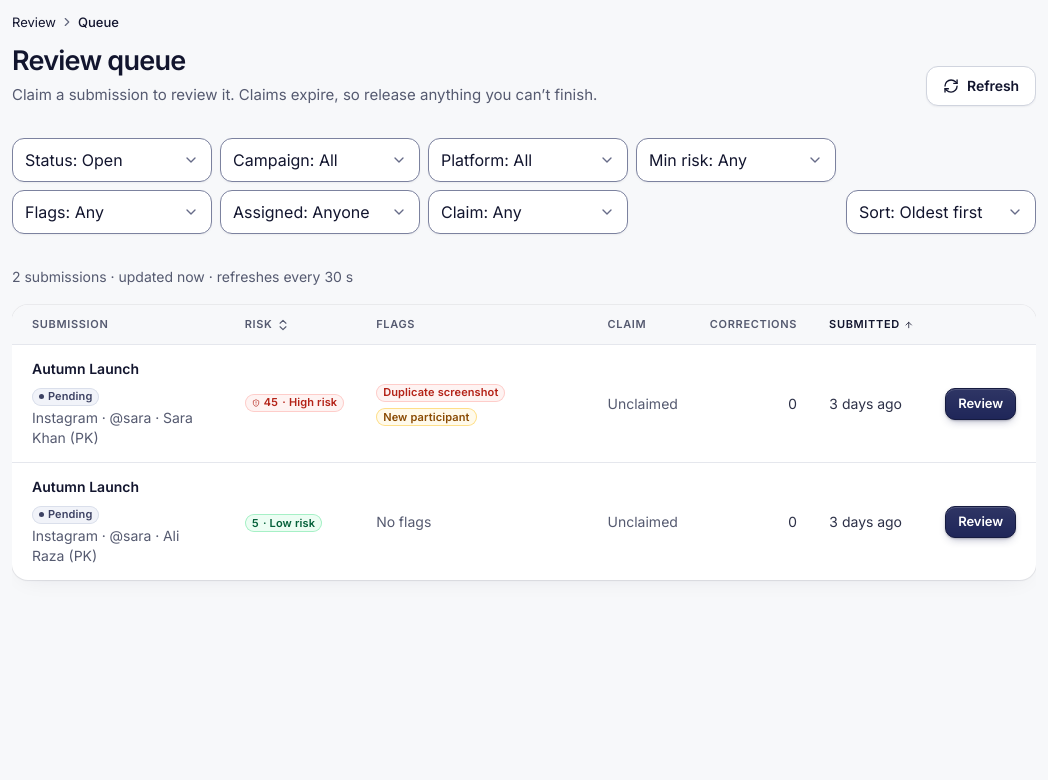
it: QueuePage › explains a claim conflict with who holds the submission and offers a refresh
The image size is (1048, 780).
Click the button with aria-label "Review Autumn Launch by Sara Khan".
click(981, 404)  # box [945,388,1016,420]
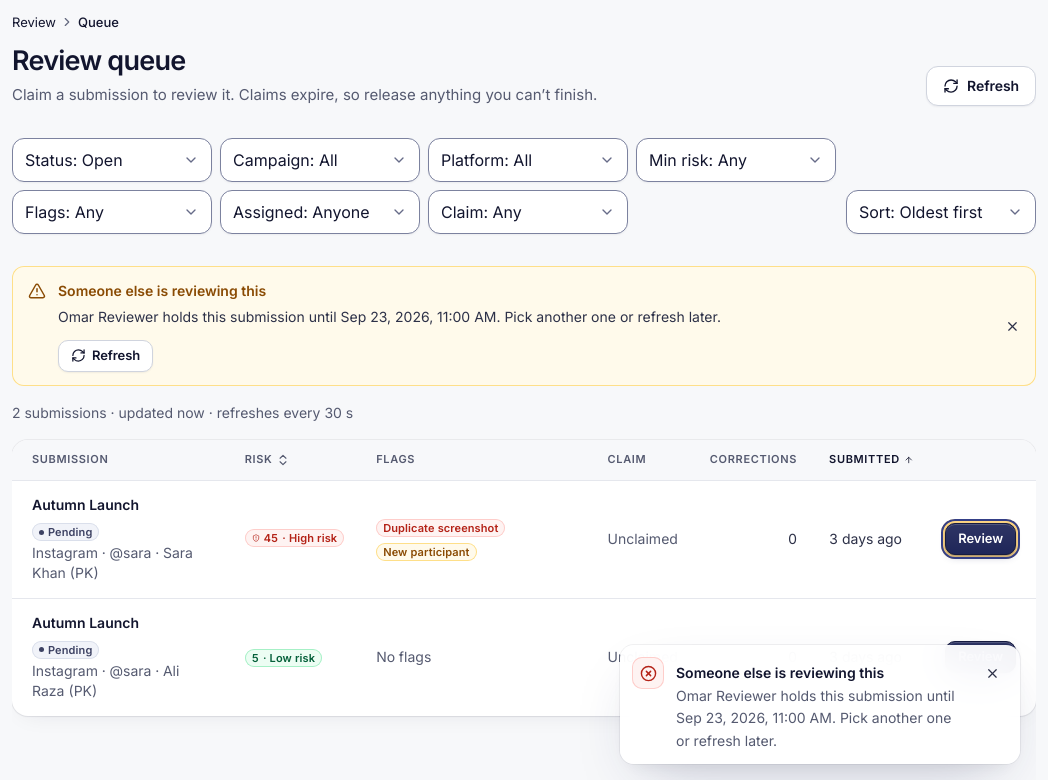
Now the message shows "Someone else is reviewing this", box [58,282,266,299]
Now the message shows "Omar Reviewer holds this submission until", box [58,308,721,325]
Now the 2nd button "Refresh" is shown, box [58,340,153,372]
